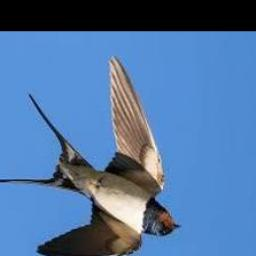Swallow: (0, 56, 180, 256)
